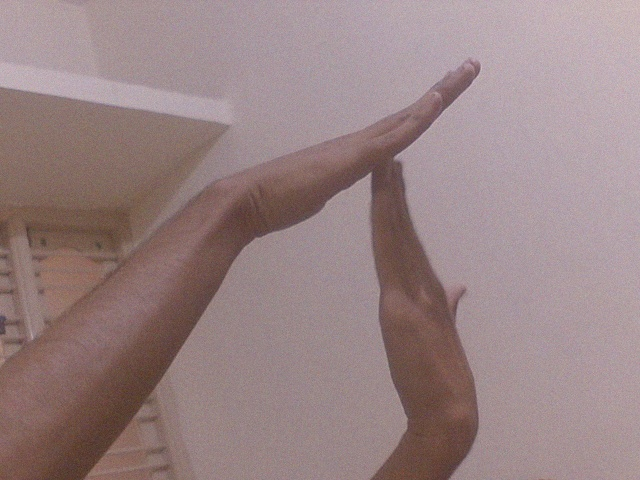hand: (232, 56, 488, 233), (370, 155, 482, 441)
